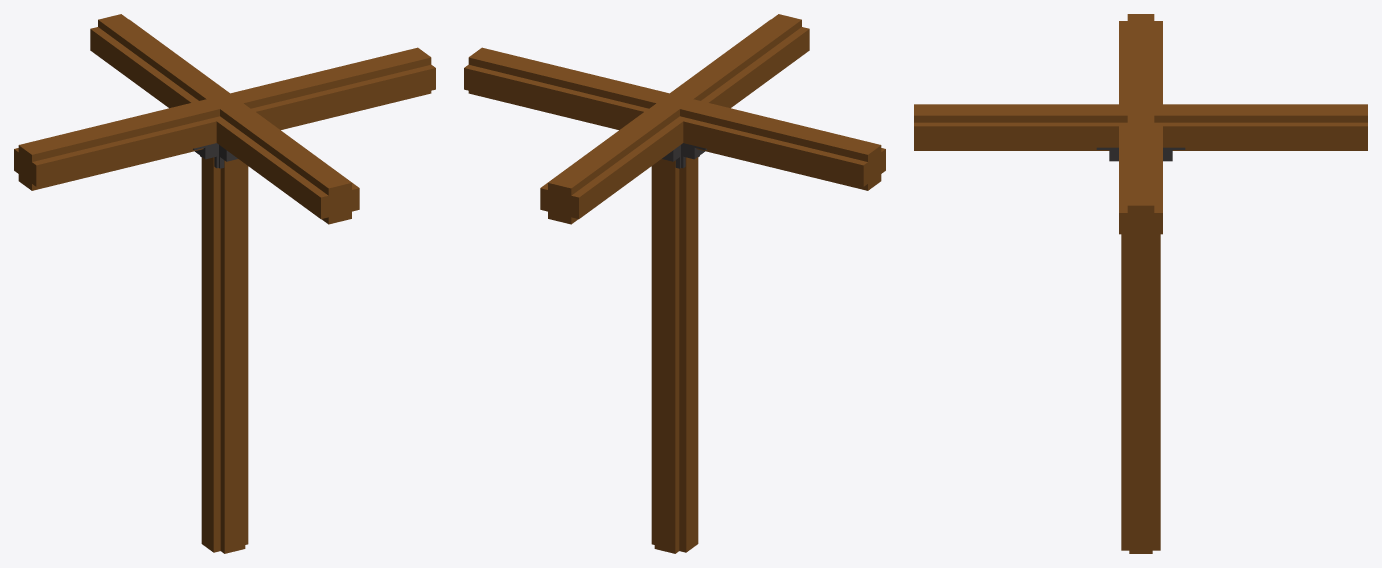
The model's file is Soportes.fbx.
3 renders of one model, left to right at view 1: azimuth 30°, elevation 25°; view 2: azimuth 150°, elevation 25°; view 3: azimuth 270°, elevation 25°, orthographic.
Visible parts, largest first — view 1: Pilar, Pilar.X, Pilar.T, Pilar.L, Pilar.T.ALF; view 2: Pilar, Pilar.X, Pilar.T, Pilar.L, Pilar.T.ALF; view 3: Pilar.X, Pilar, Pilar.T.ALF, Pilar.T, Pilar.L.
Part boxes in pixels (bbox=[...]): Pilar: bbox=[201, 157, 248, 553]; Pilar.X: bbox=[90, 14, 359, 224]; Pilar.T: bbox=[14, 49, 435, 190]; Pilar.L: bbox=[201, 47, 435, 127]; Pilar.T.ALF: bbox=[209, 48, 435, 223]; Pilar: bbox=[651, 157, 698, 553]; Pilar.X: bbox=[540, 14, 809, 224]; Pilar.T: bbox=[464, 48, 885, 190]; Pilar.L: bbox=[464, 47, 698, 127]; Pilar.T.ALF: bbox=[464, 20, 809, 127]; Pilar.X: bbox=[914, 104, 1367, 161]; Pilar: bbox=[1121, 234, 1160, 553]; Pilar.T.ALF: bbox=[914, 113, 1162, 211]; Pilar.T: bbox=[1119, 14, 1162, 241]; Pilar.L: bbox=[1119, 101, 1162, 241].
Size of the model in its own units: 3.02 by 3.2 by 3.02.
